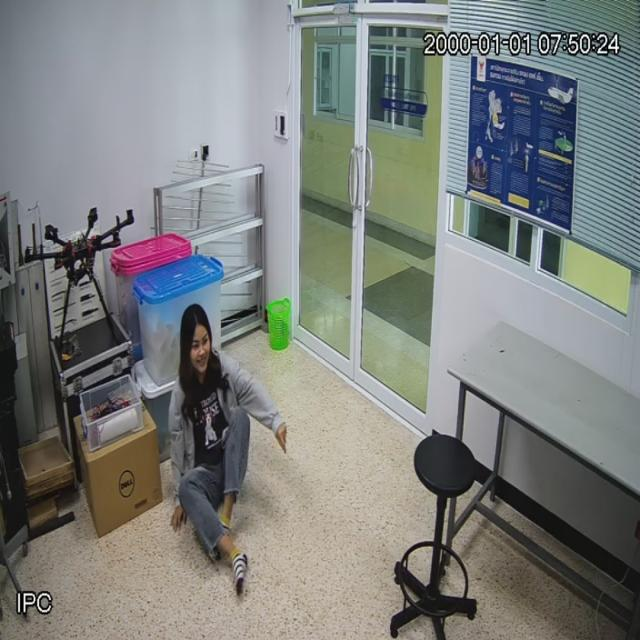normal: (161, 292, 289, 596)
